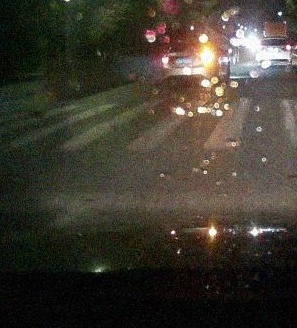L_light: (162, 55, 177, 64), (259, 46, 265, 50)
R_light: (200, 54, 214, 63), (282, 46, 291, 50)
T_light: (187, 42, 195, 44), (272, 39, 277, 40)
night-no: (257, 37, 291, 66)
night-right: (162, 40, 215, 87)
